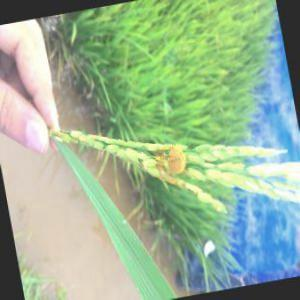Leaf_Scald: (162, 144, 198, 186)
